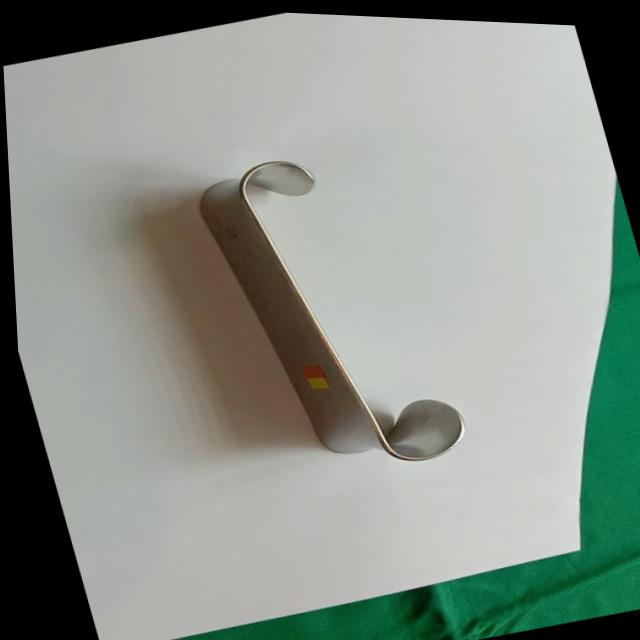CheekRetractor: (184, 127, 472, 495)
